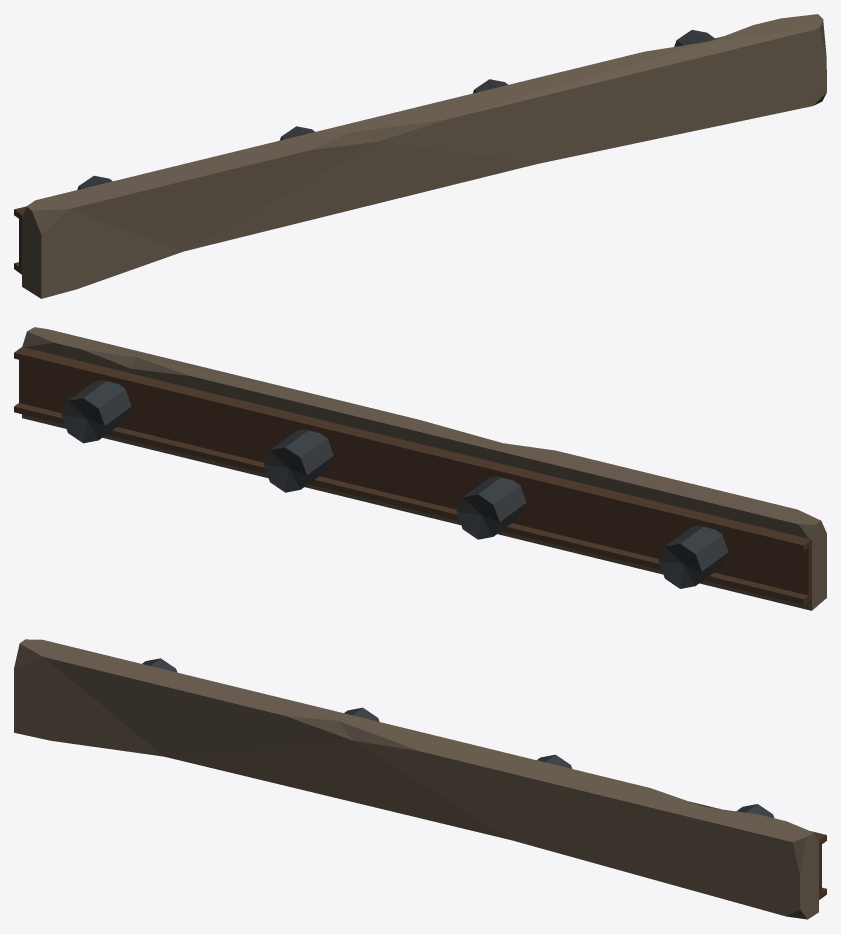
The model's file is SM_Env_PortEdge_Barrier_01.fbx.
3 renders of one model, top to bottom at view 1: azimuth 30°, elevation 25°; view 2: azimuth 150°, elevation 25°; view 3: azimuth 330°, elevation 25°, orthographic.
Parts seen in each view (by area): view 1: SM_Env_PortEdge_Barrier_01; view 2: SM_Env_PortEdge_Barrier_01; view 3: SM_Env_PortEdge_Barrier_01.
Boxes of the visible parts, x1,y1,x2,y2 form: SM_Env_PortEdge_Barrier_01: (14,14,826,298); SM_Env_PortEdge_Barrier_01: (14,327,826,610); SM_Env_PortEdge_Barrier_01: (14,639,826,919).
Bounding box in the file's own units: 1000 × 101 × 103.
